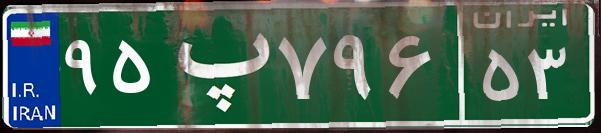3: (525, 38, 570, 115)
5: (475, 38, 525, 113), (110, 28, 158, 105)
6: (385, 28, 445, 110)
7: (273, 28, 330, 110)
9: (330, 28, 385, 110), (57, 26, 110, 107)
پ: (158, 15, 273, 115)
